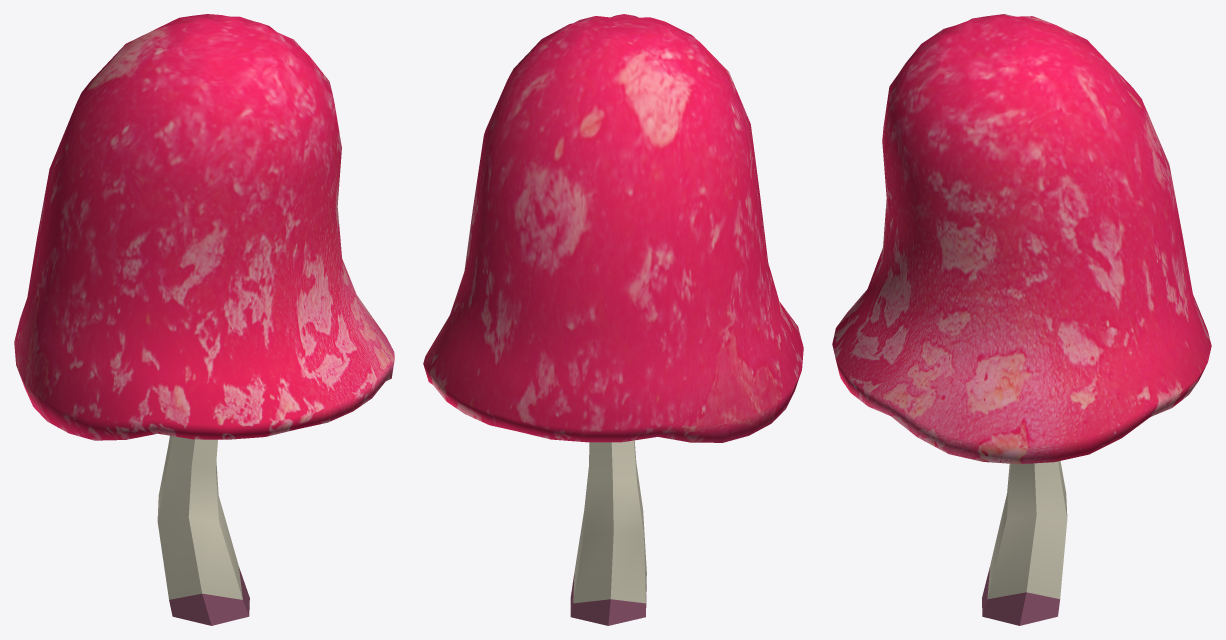
The model's file is pinkShroom_06_15_17.fbx.
3 renders of one model, left to right at view 1: azimuth 30°, elevation 25°; view 2: azimuth 150°, elevation 25°; view 3: azimuth 270°, elevation 25°, orthographic.
Visible parts, largest first — view 1: pink_top, pink_bot; view 2: pink_top, pink_bot; view 3: pink_top, pink_bot.
Boxes of the visible parts, left/top/right/bottom form: pink_top: left=14, top=14, right=394, bottom=440; pink_bot: left=157, top=435, right=249, bottom=625; pink_top: left=423, top=14, right=803, bottom=442; pink_bot: left=570, top=440, right=646, bottom=625; pink_top: left=832, top=14, right=1211, bottom=464; pink_bot: left=982, top=461, right=1067, bottom=625.
Bounding box in the file's own units: 0.6551 × 1.1 × 0.6548.
